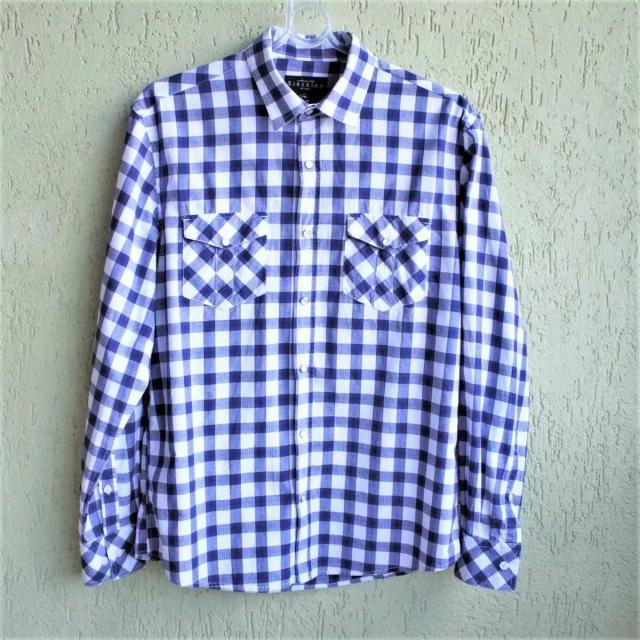long sleeve shirt: (72, 23, 532, 594)
